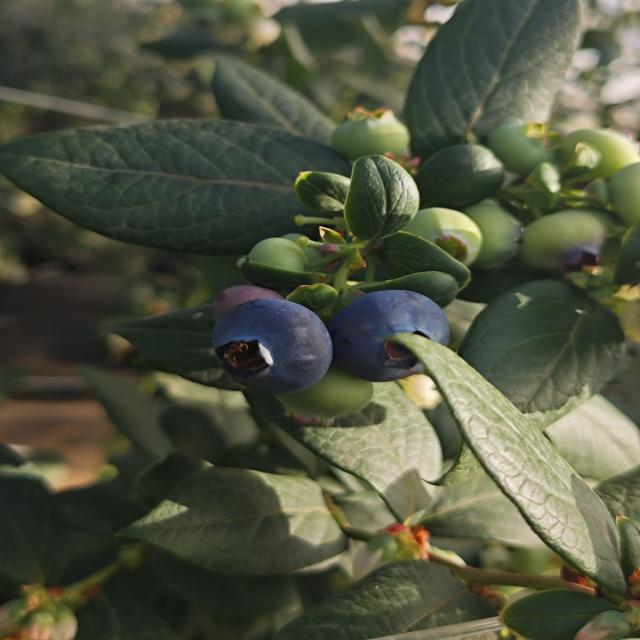ripe: (209, 296, 335, 396), (328, 287, 452, 384)
